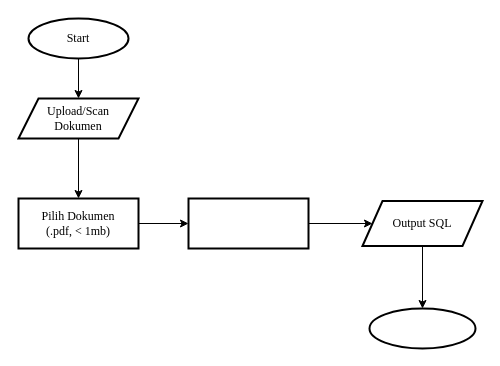
Some shapes in this 500 by 366 pixel diagram are drawn without their labels. Here are the shapes that lost their labels. From the top down, the box of each, then its label:
(187, 197, 309, 249): Insert database
(368, 307, 476, 349): End
